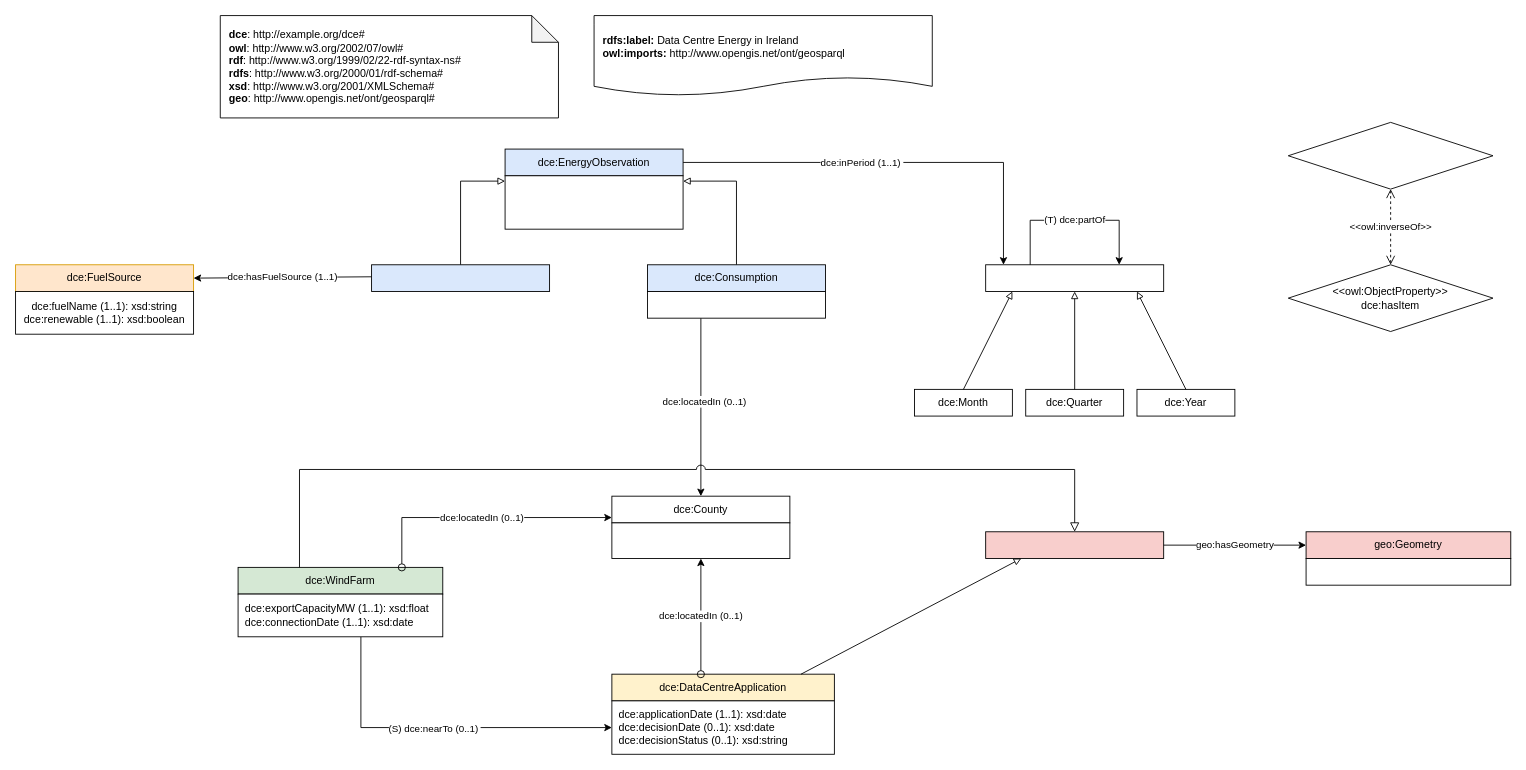
The diagram is 1526 pixels wide and 770 high, and some of its shapes have lost their labels. The centre of each missing label's shape, as x and y in pixels:
"<<owl:ObjectProperty>> dce:locatedIn" belongs at (1390,155).
"dce:name (1..1): xsd:string dce:province (1..1: xsd:string" belongs at (700,540).
"dce:Production" belongs at (460,277).
"dce:sector (0..1): xsd: string" belongs at (736,304).
"dce:TimePeriod" belongs at (1074,277).
"dce:value (1..1): xsd:float dce:unit (1..1): xsd: string" belongs at (593,202).
"geo:asWKT (1..1): geo:wktLiteral" belongs at (1408,571).
"geo:Feature" belongs at (1074,544).
